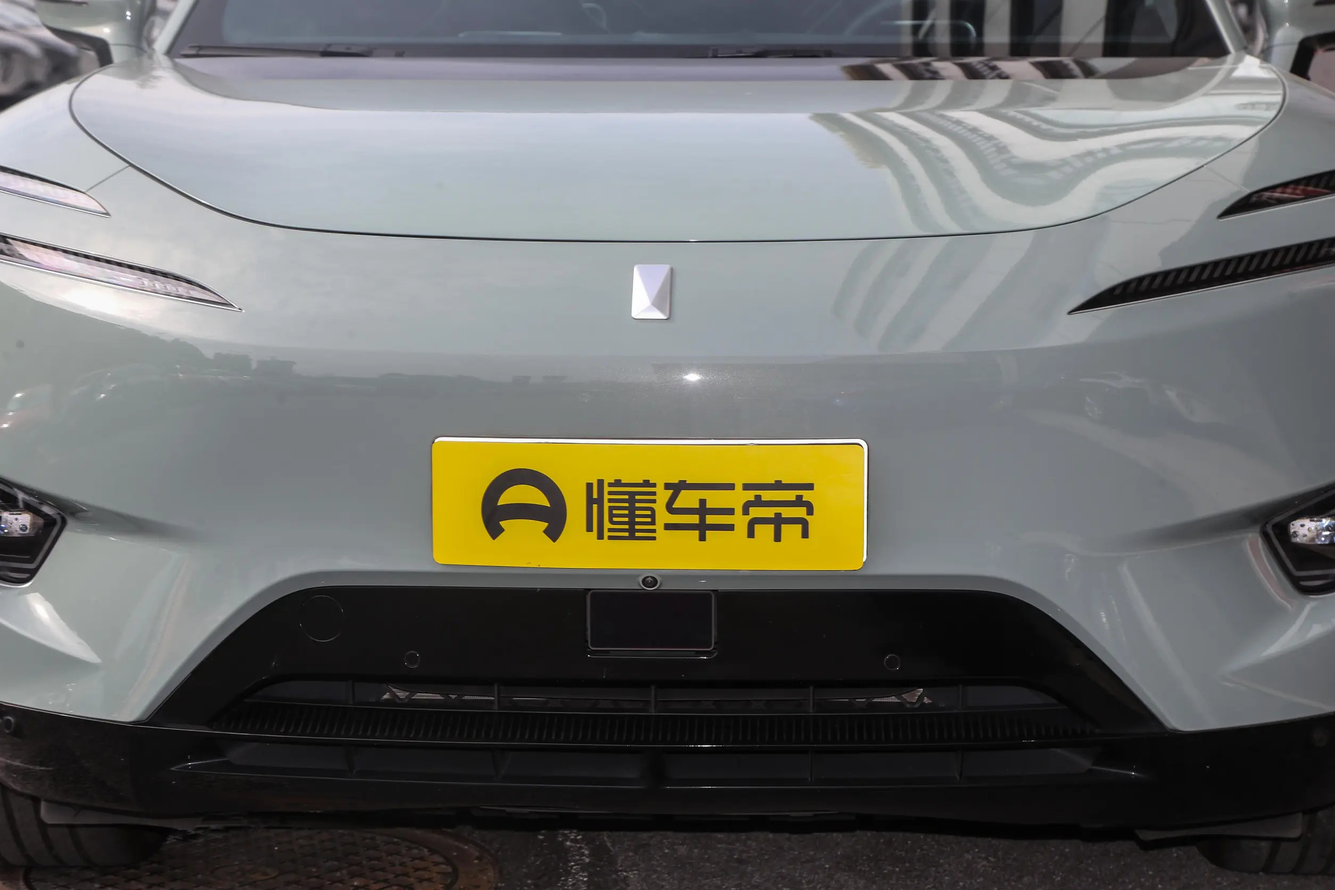AVATR: (632, 265, 670, 319)
